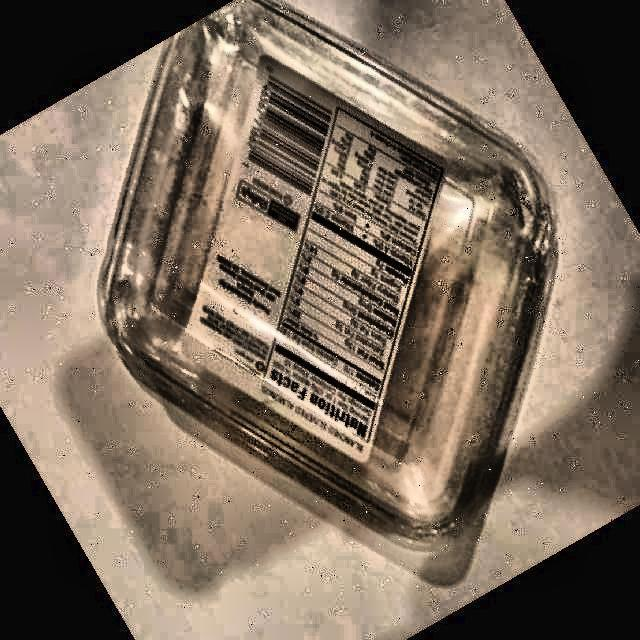plastic: (99, 0, 556, 551)
